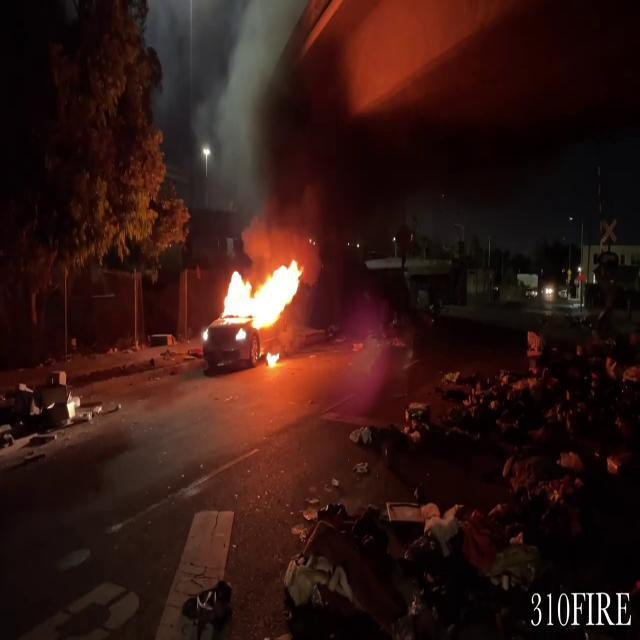Fire: (211, 252, 309, 342)
Smoke: (202, 0, 322, 222)
